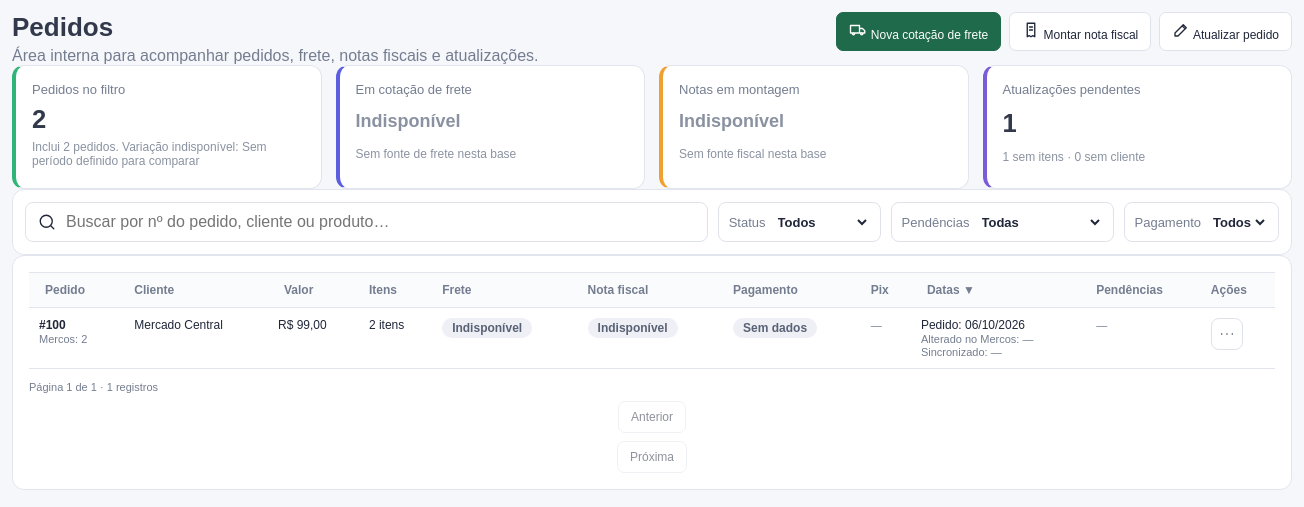
Test: filtros escrevem na URL e chegam ao servidor junto com o resumo
The width and height of the screenshot is (1304, 507).
Expected: the text "#100" is shown, 39,318 -> 66,332
Select "Orçamentos" in the dropdown labelled "Status" at point(822, 222), box 774,214 -> 870,230
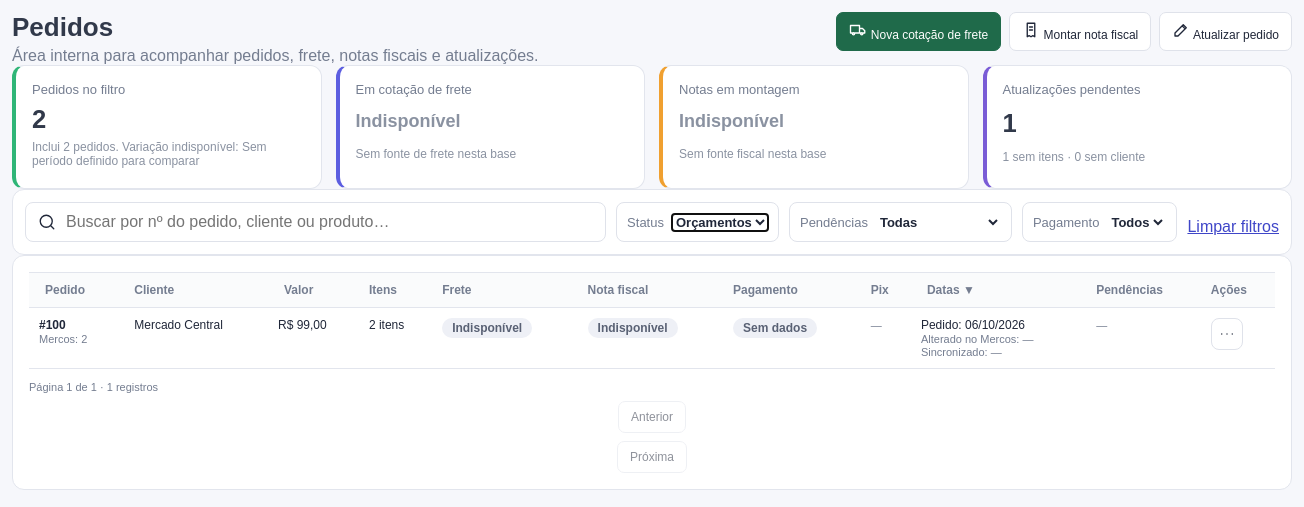
Select "Com pendências" in the dropdown labelled "Pendências" at point(938, 222), box 876,214 -> 1001,230
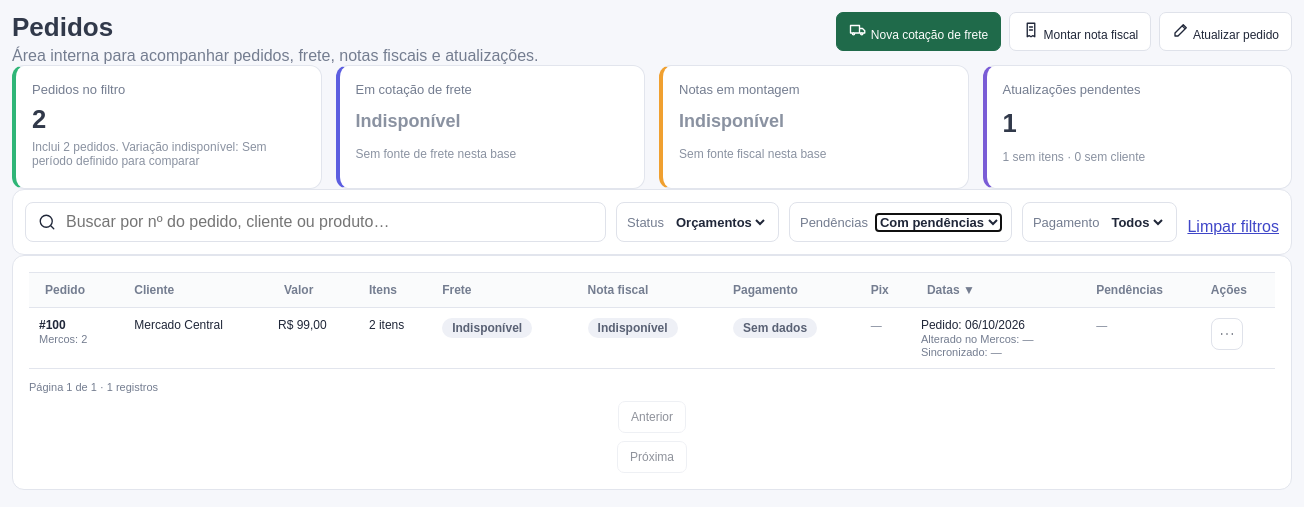
Click the button "Limpar filtros" at point(1233, 227), box 1187,218 -> 1279,236
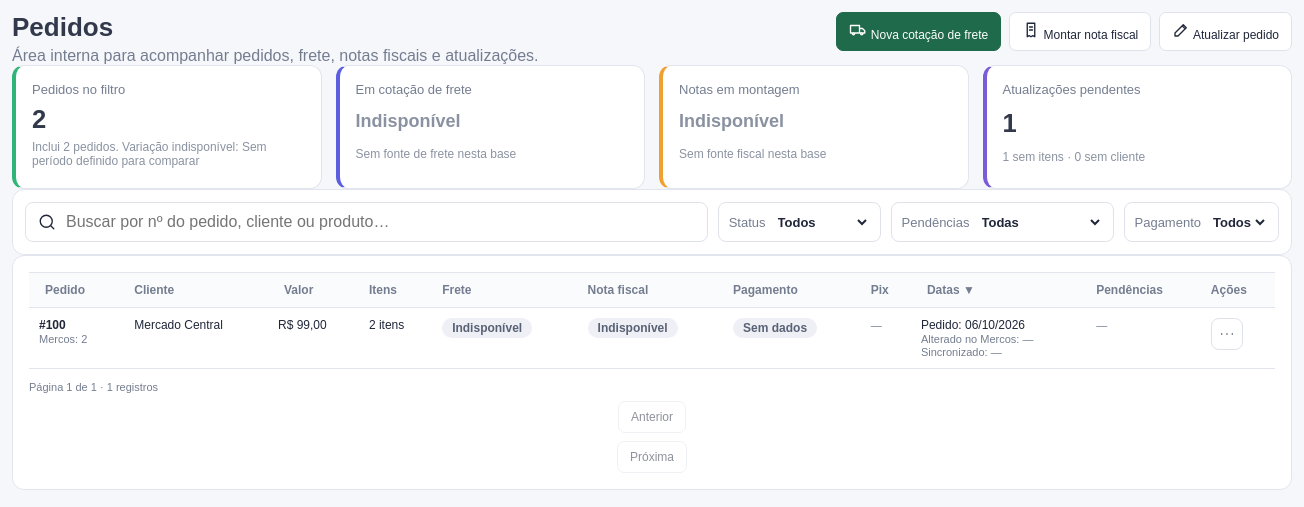
Expected: the button "Limpar filtros" is gone
